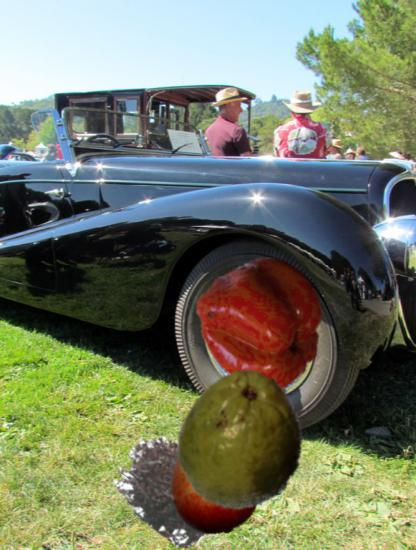Guava: (171, 371, 314, 514)
Nectarine: (167, 436, 266, 535)
Pepper: (195, 254, 329, 388)
Potato: (175, 364, 307, 496)
Rambutan: (115, 428, 235, 548)
